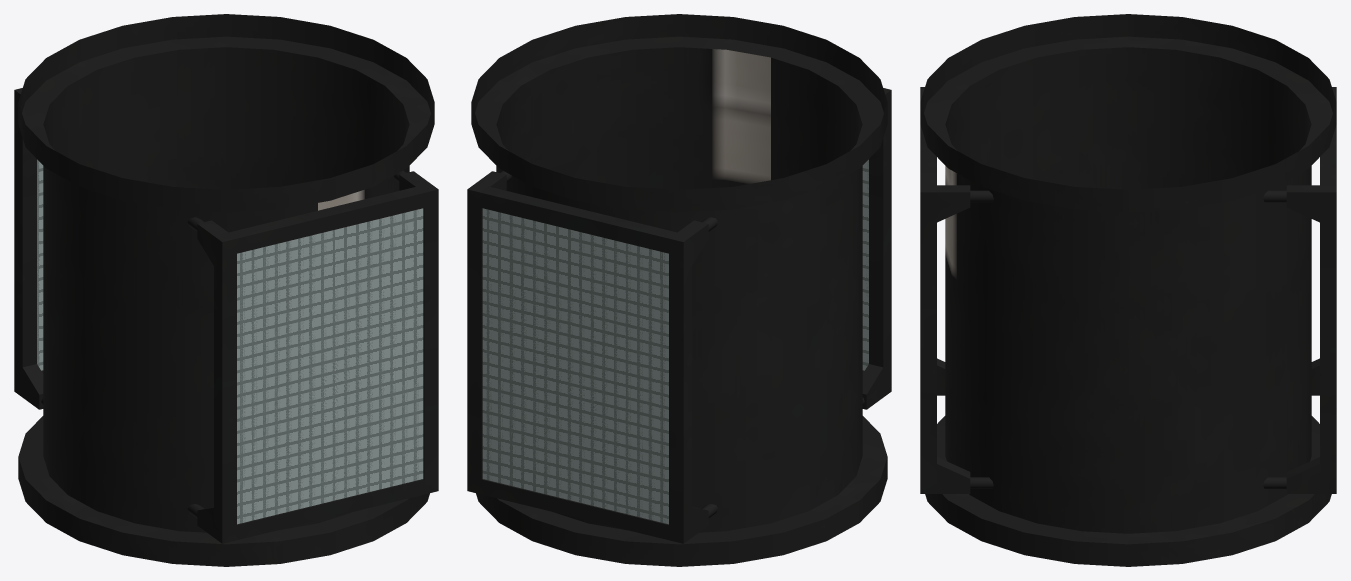
File: 1f_science_container_s0_1.obj
3 renders of one model, left to right at view 1: azimuth 30°, elevation 25°; view 2: azimuth 150°, elevation 25°; view 3: azimuth 270°, elevation 25°, orthographic.
Parts seen in each view (by area): view 1: mesh1, mesh2; view 2: mesh1, mesh2; view 3: mesh1.
Part boxes in pixels (x1,y1,x2,y2): mesh1: (14,14,438,566); mesh2: (37,159,423,524); mesh1: (467,14,891,566); mesh2: (482,159,868,524); mesh1: (920,14,1336,566).
Size of the model in its own units: 0.625 by 0.625 by 0.625.
